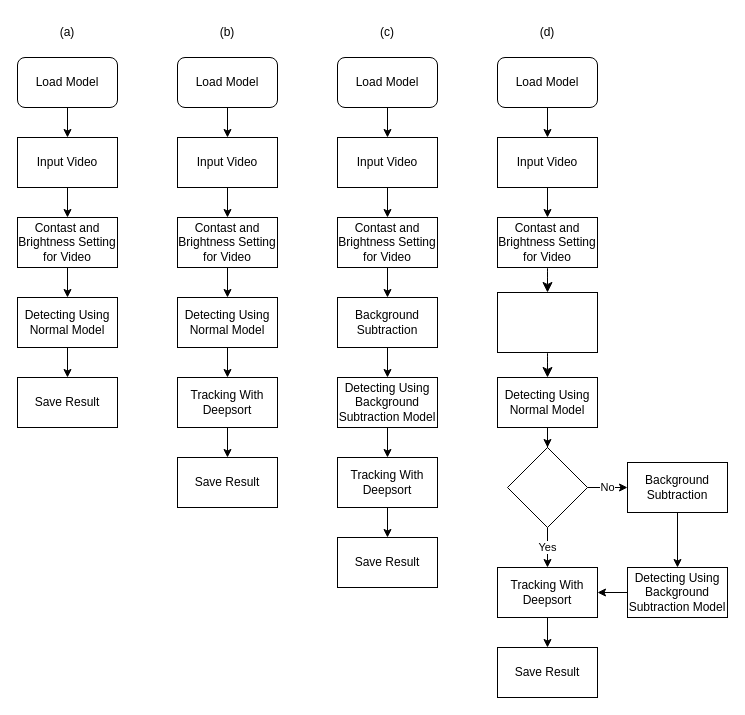
The diagram is 745 pixels wide and 715 high, and some of its shapes have lost their labels. The shapes that lost their labels are listed below. From the top down, each one's centre as x and y in pixels, then its label:
the point at 547,322: Region of Interest Setting for Background Subtraction
the point at 547,487: Detect Object?
